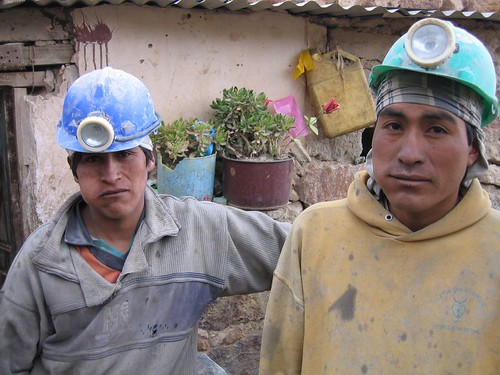person hardhat: (3, 64, 264, 375), (275, 19, 500, 375)
